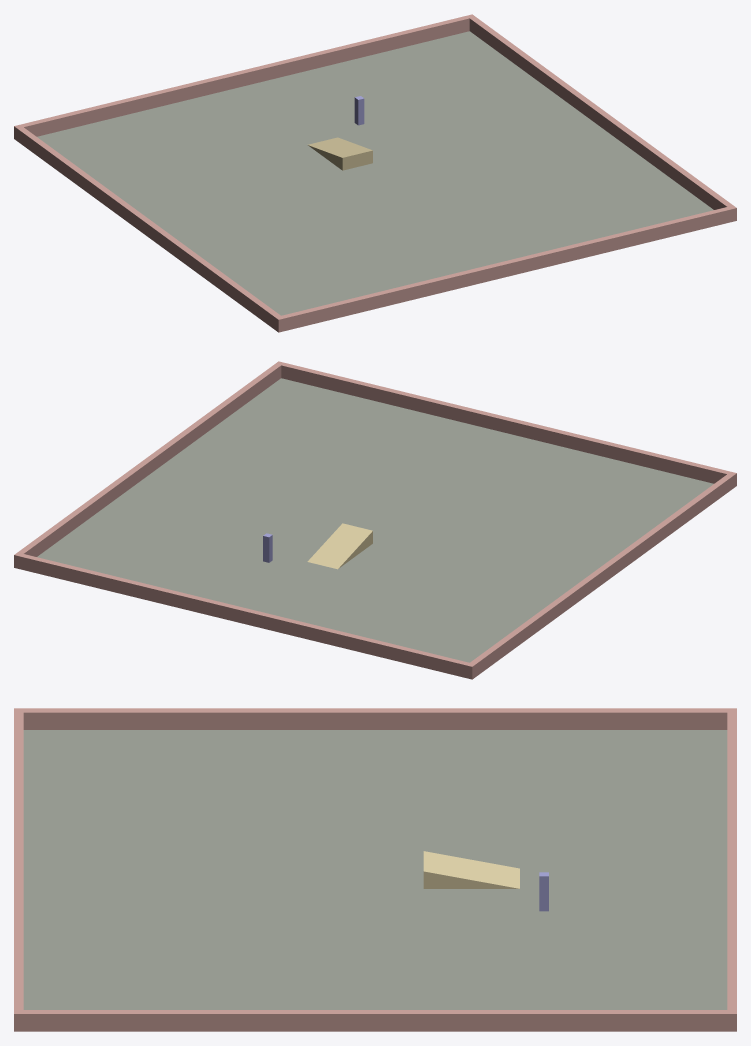
Rendered from demo.gltf.
3 renders of one model, top to bottom at view 1: azimuth 30°, elevation 25°; view 2: azimuth 150°, elevation 25°; view 3: azimuth 270°, elevation 25°, orthographic. The views are drawn at different scales.
Parts seen in each view (by area): view 1: ground, wall, ramp; view 2: ground, wall, ramp; view 3: ground, wall, ramp.
Boxes of the visible parts, x1=… form: ground: x1=37, y1=31, x2=713, y2=315; wall: x1=14, y1=14, x2=736, y2=332; ramp: x1=307, y1=137, x2=372, y2=170; ground: x1=37, y1=378, x2=713, y2=662; wall: x1=14, y1=361, x2=736, y2=679; ramp: x1=307, y1=523, x2=372, y2=569; ground: x1=23, y1=730, x2=727, y2=1009; wall: x1=14, y1=708, x2=736, y2=1031; ramp: x1=423, y1=851, x2=519, y2=888.
Size of the model in its own units: 3000 by 160 by 3000.
